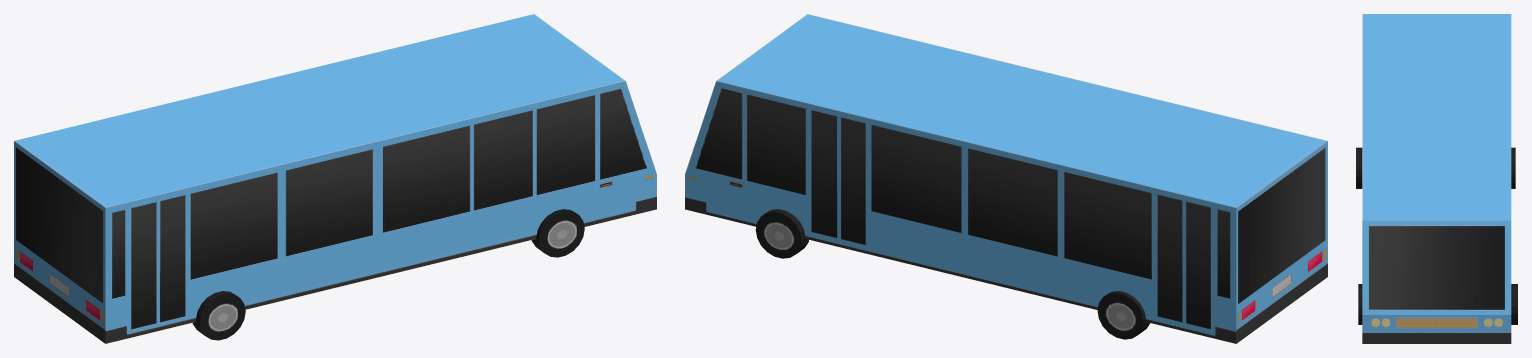
Rendered from blue-bus.glb.
The picture shows the model from 3 angles, left to right: view 1: azimuth 30°, elevation 25°; view 2: azimuth 150°, elevation 25°; view 3: azimuth 270°, elevation 25°; orthographic projection. The views are drawn at different scales.
Parts seen in each view (by area): view 1: Car_12; view 2: Car_12; view 3: Car_12.
Part boxes in pixels (x1,y1,x2,y2): Car_12: (14, 14, 656, 343); Car_12: (685, 14, 1327, 343); Car_12: (1356, 14, 1517, 343).
Size of the model in its own units: 1.81 by 0.4935 by 0.5634.
Materials: 1 (1 with a texture image).
